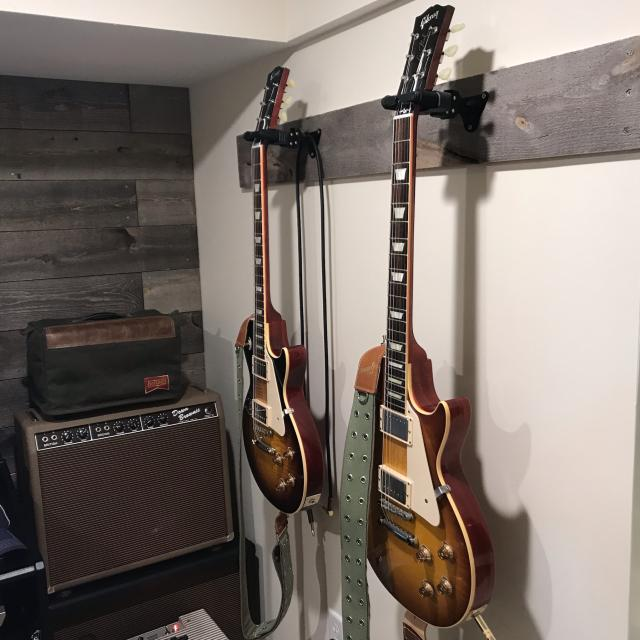guitar: (350, 4, 494, 626), (234, 64, 324, 515)
